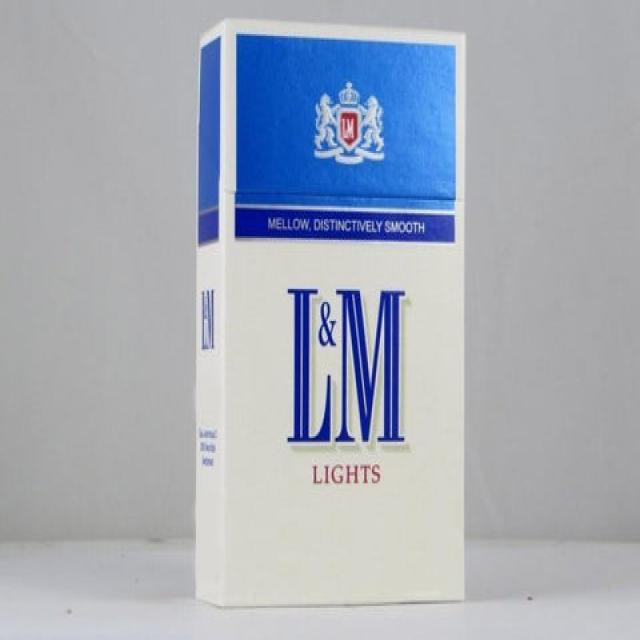lm: (183, 22, 479, 614)
